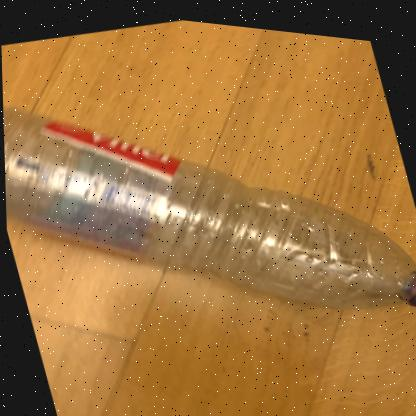Plastic: (3, 109, 416, 300)
